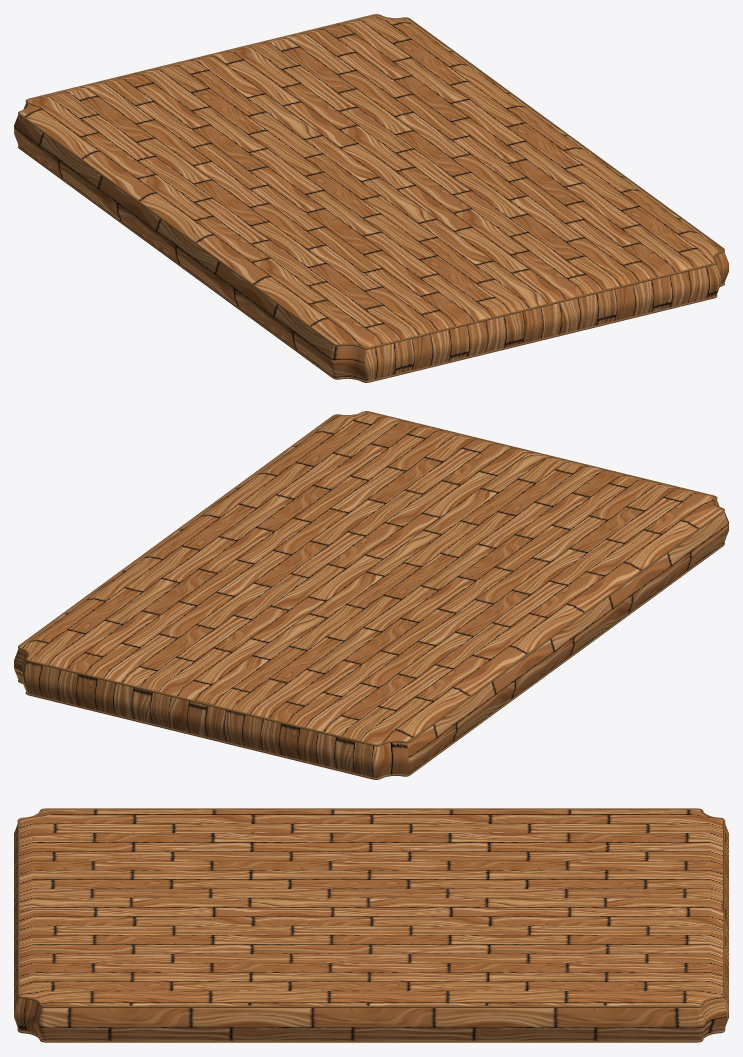
File: SM_FoamFloor_2x3.fbx
The picture shows the model from 3 angles, top to bottom: view 1: azimuth 30°, elevation 25°; view 2: azimuth 150°, elevation 25°; view 3: azimuth 270°, elevation 25°; orthographic projection. The views are drawn at different scales.
Visible parts, largest first — view 1: SM_SoftFoam_Floor_20cm_2x3; view 2: SM_SoftFoam_Floor_20cm_2x3; view 3: SM_SoftFoam_Floor_20cm_2x3.
Part boxes in pixels (box(x1,y1,x2,y2)): SM_SoftFoam_Floor_20cm_2x3: box(14, 14, 728, 382); SM_SoftFoam_Floor_20cm_2x3: box(14, 411, 728, 779); SM_SoftFoam_Floor_20cm_2x3: box(14, 808, 728, 1042).
Bounding box in the file's own units: 200 × 20 × 300.
